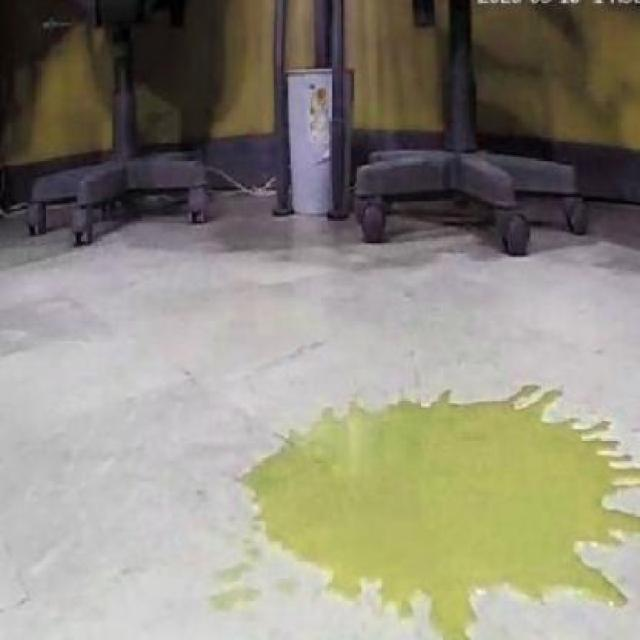spillage: (231, 384, 640, 640)
